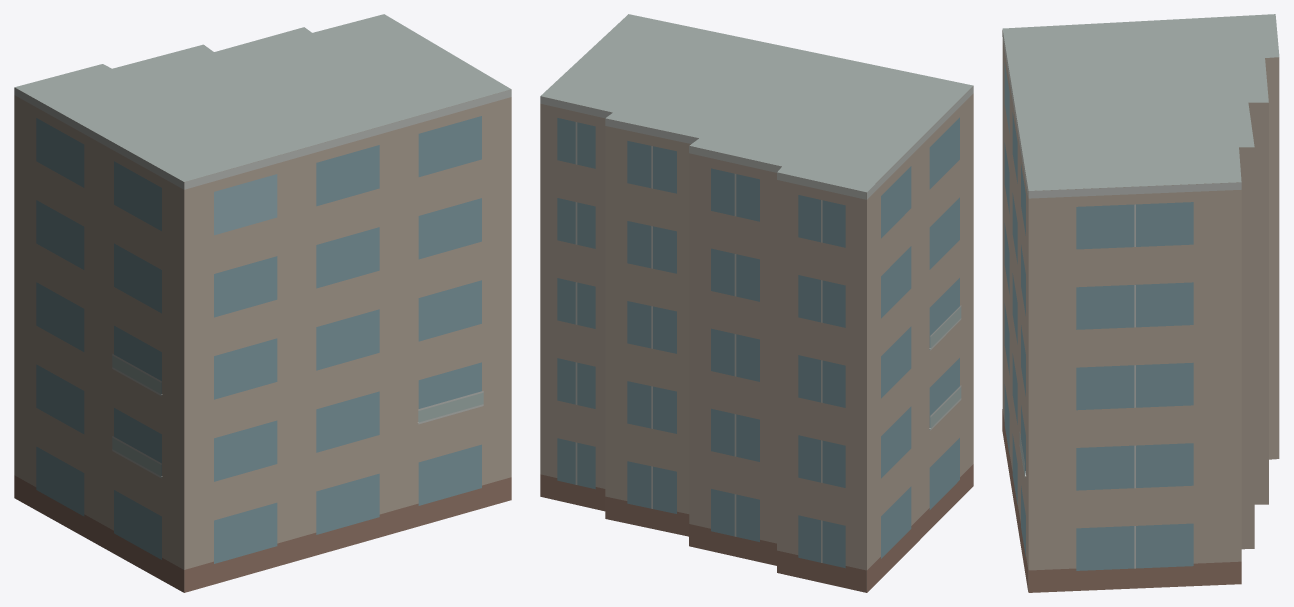
File: survey-upis-32747251.glb
3 views of the same model, side by side, from view 1: azimuth 30°, elevation 25°; view 2: azimuth 150°, elevation 25°; view 3: azimuth 270°, elevation 25° (orthographic). The views are drawn at different scales.
Parts seen in each view (by area): view 1: survey-upis-32747251.tmp; view 2: survey-upis-32747251.tmp; view 3: survey-upis-32747251.tmp.
Part boxes in pixels (box(x1,y1,x2,y2)): survey-upis-32747251.tmp: box(14, 14, 511, 592); survey-upis-32747251.tmp: box(540, 14, 973, 592); survey-upis-32747251.tmp: box(1002, 14, 1279, 592).
Bounding box in the file's own units: 12.24 × 12.95 × 8.1.
